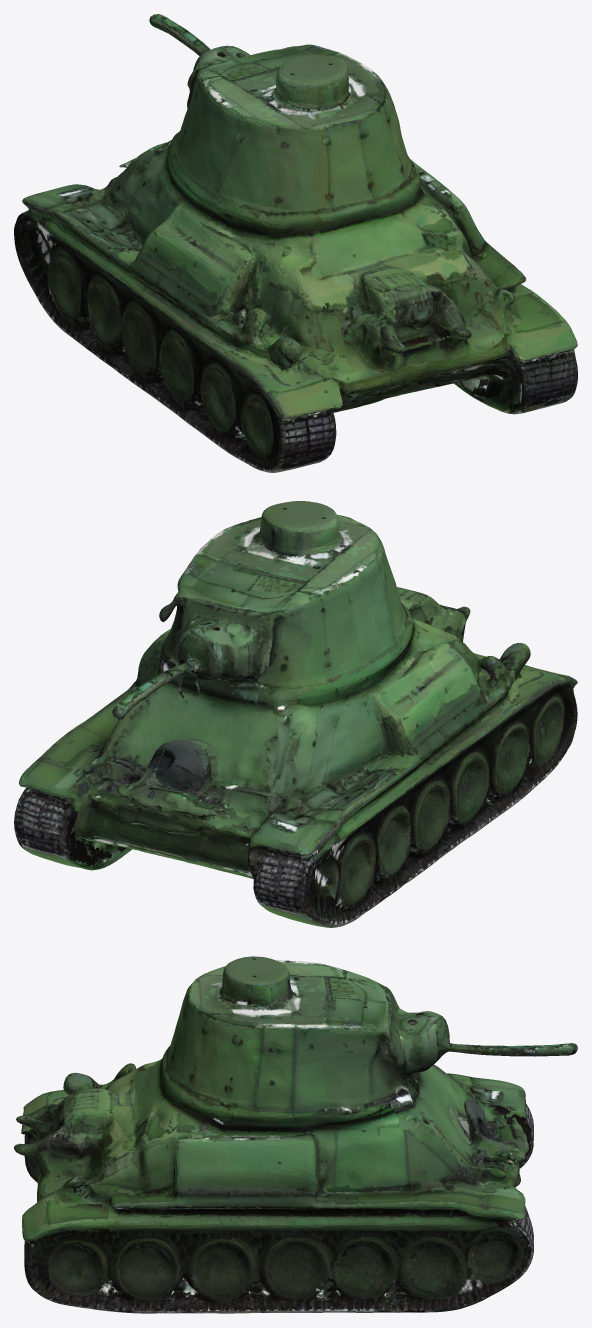
Rendered from textured_text2tex.glb.
3 renders of one model, top to bottom at view 1: azimuth 30°, elevation 25°; view 2: azimuth 150°, elevation 25°; view 3: azimuth 270°, elevation 25°, orthographic. The views are drawn at different scales.
Visible parts, largest first — view 1: Node; view 2: Node; view 3: Node.
Boxes of the visible parts, <box> form: Node: <box>14,14,577,472</box>; Node: <box>14,501,577,927</box>; Node: <box>14,956,577,1313</box>.
Size of the model in its own units: 0.5746 by 0.553 by 1.
Materials: 1 (1 with a texture image).
